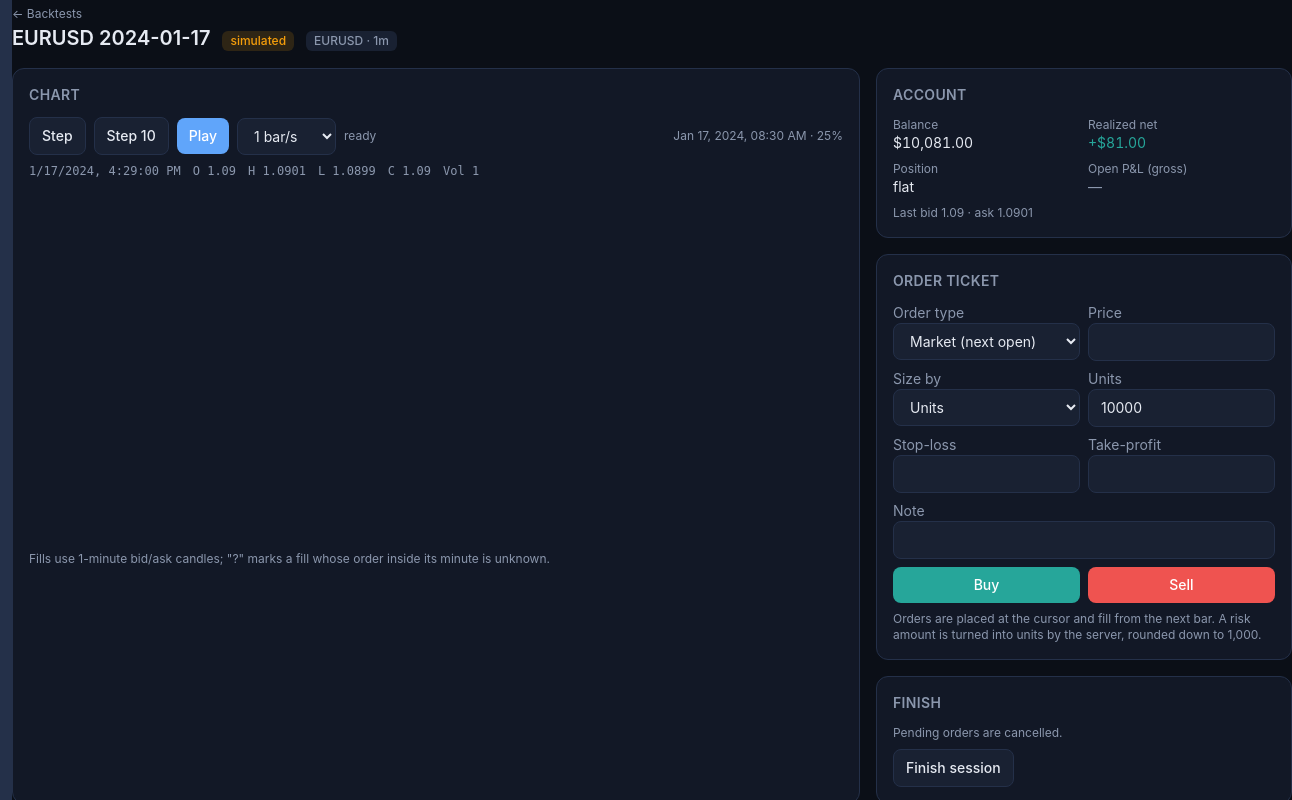
backtest session › sends a bracket order from the ticket and validates it first
Select "Limit" in the dropdown labelled "Order type": (986, 342) [893, 323, 1080, 360]
Select "Risk amount" in the dropdown labelled "Size by": (986, 408) [893, 389, 1080, 426]
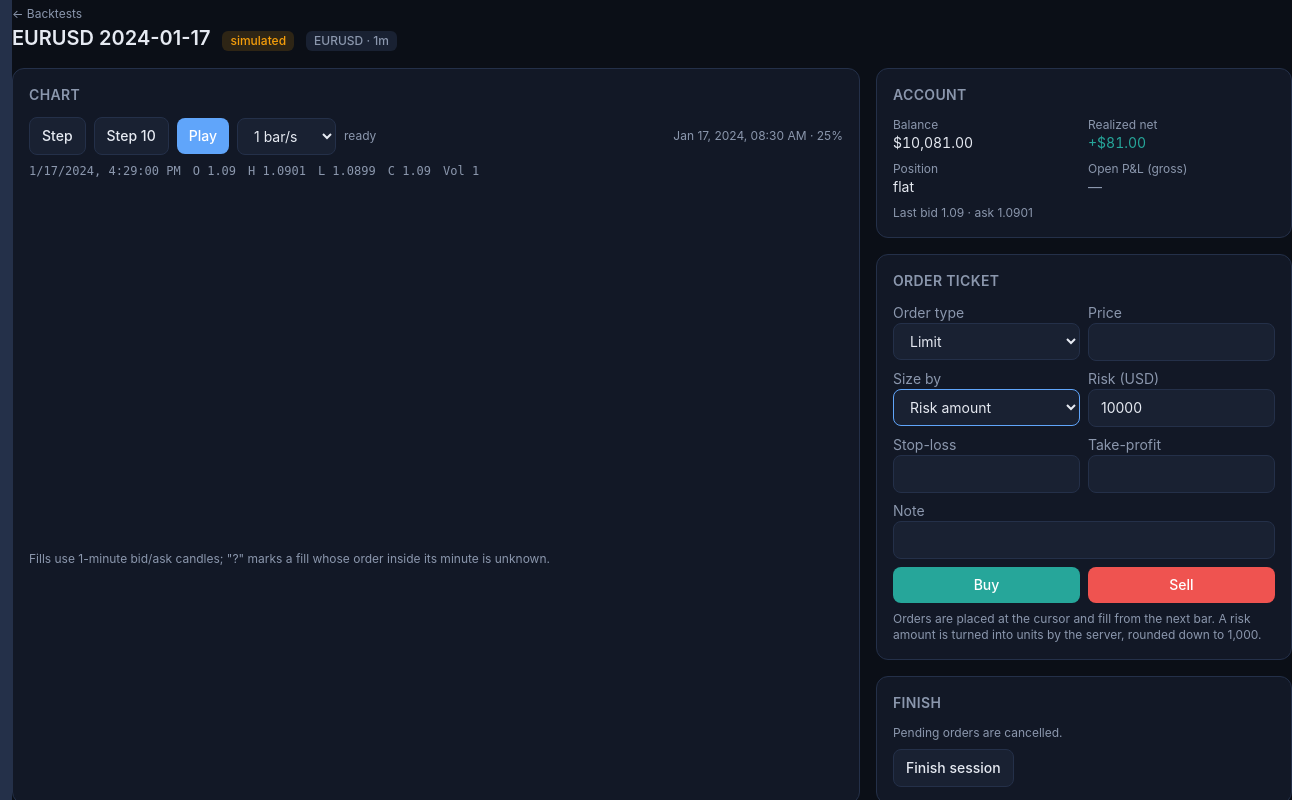
Replace the text in the field labelled "Risk (USD)" with "50": (1182, 408) [1088, 389, 1275, 427]
Click the button "Buy": (986, 585) [893, 567, 1080, 603]
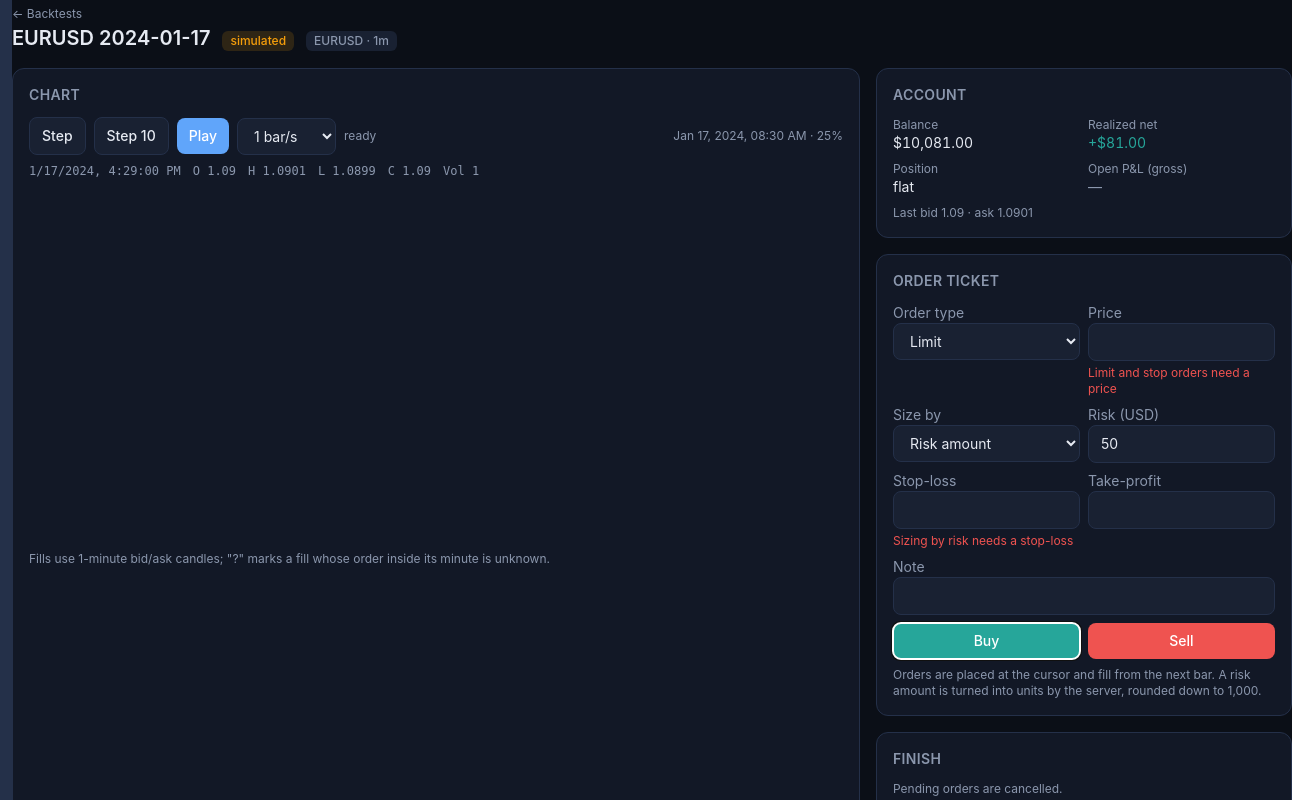
Expected: the form named "Order ticket" shows "Limit and stop orders need a price", [1088, 365, 1250, 396]
Expected: the form named "Order ticket" shows "Sizing by risk needs a stop-loss", [893, 533, 1073, 548]
In the field labelled "Price Limit and stop orders need a price": (1182, 342) [1088, 323, 1275, 361], type "1.0895"
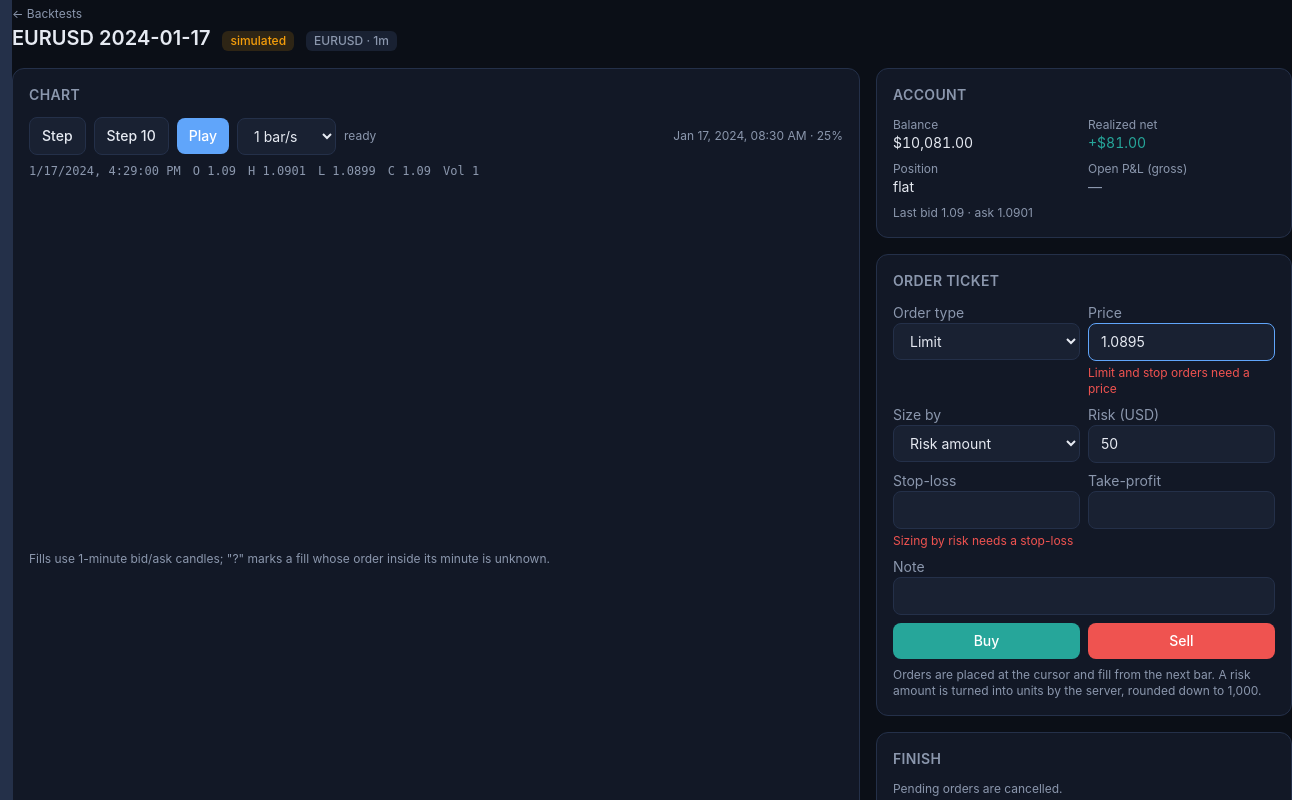
In the field labelled "Stop-loss Sizing by risk needs a stop-loss": (986, 510) [893, 491, 1080, 529], type "1.0885"
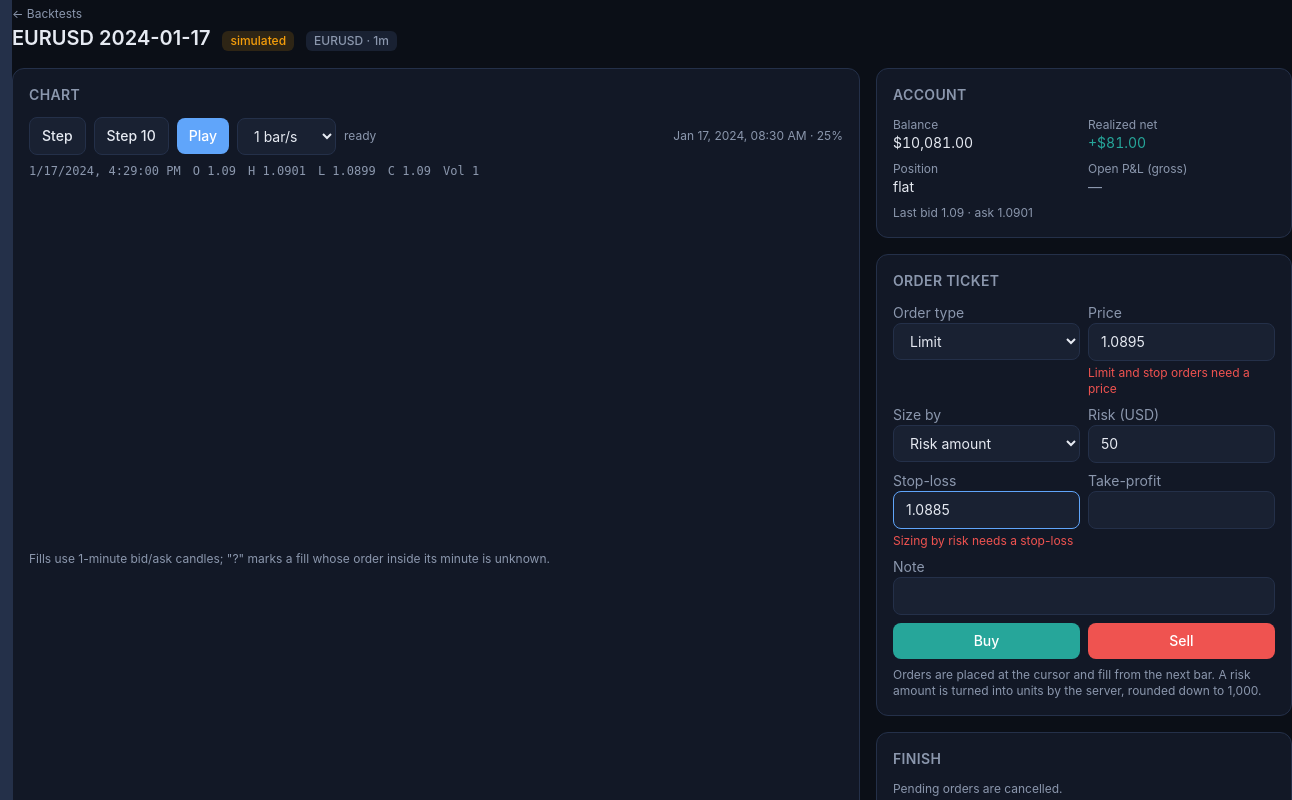
In the field labelled "Take-profit": (1182, 510) [1088, 491, 1275, 529], type "1.0915"
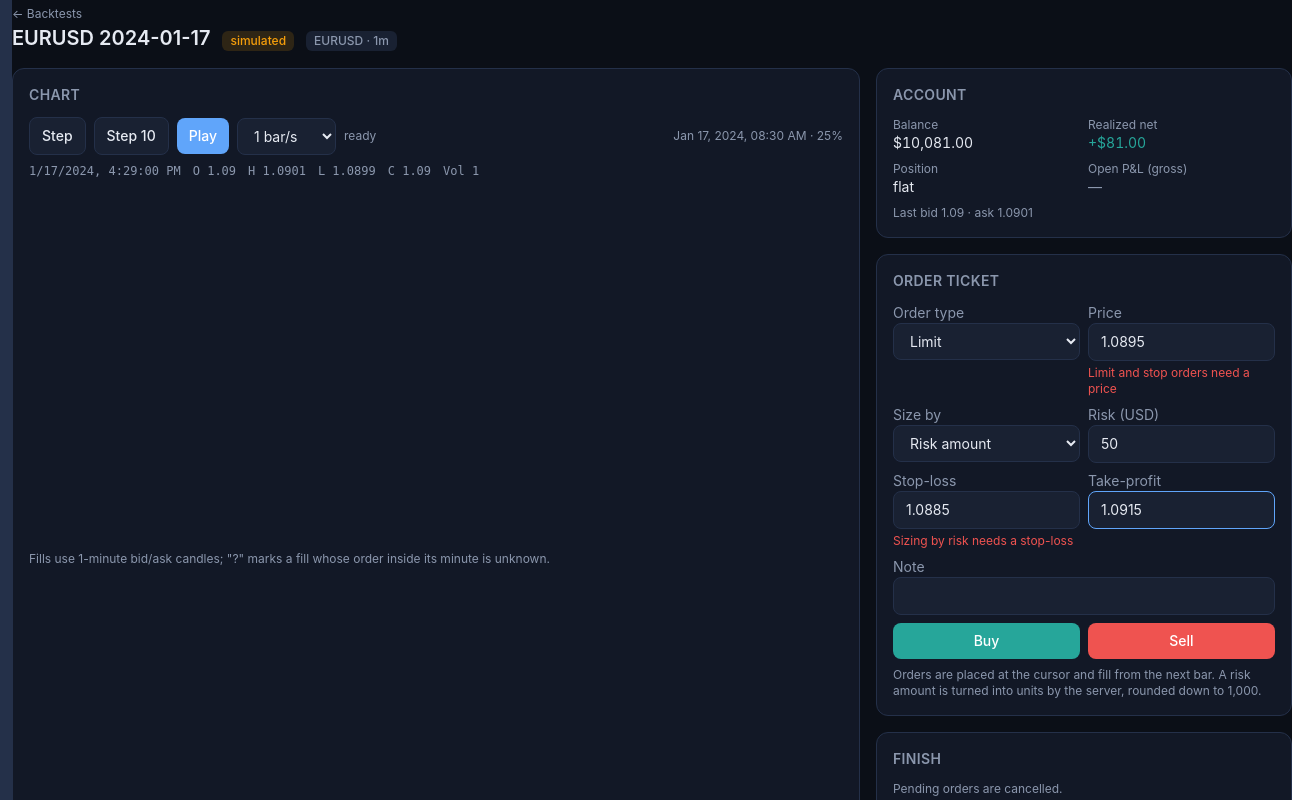
Click the button "Buy": (986, 641) [893, 623, 1080, 659]
(page scrolled)
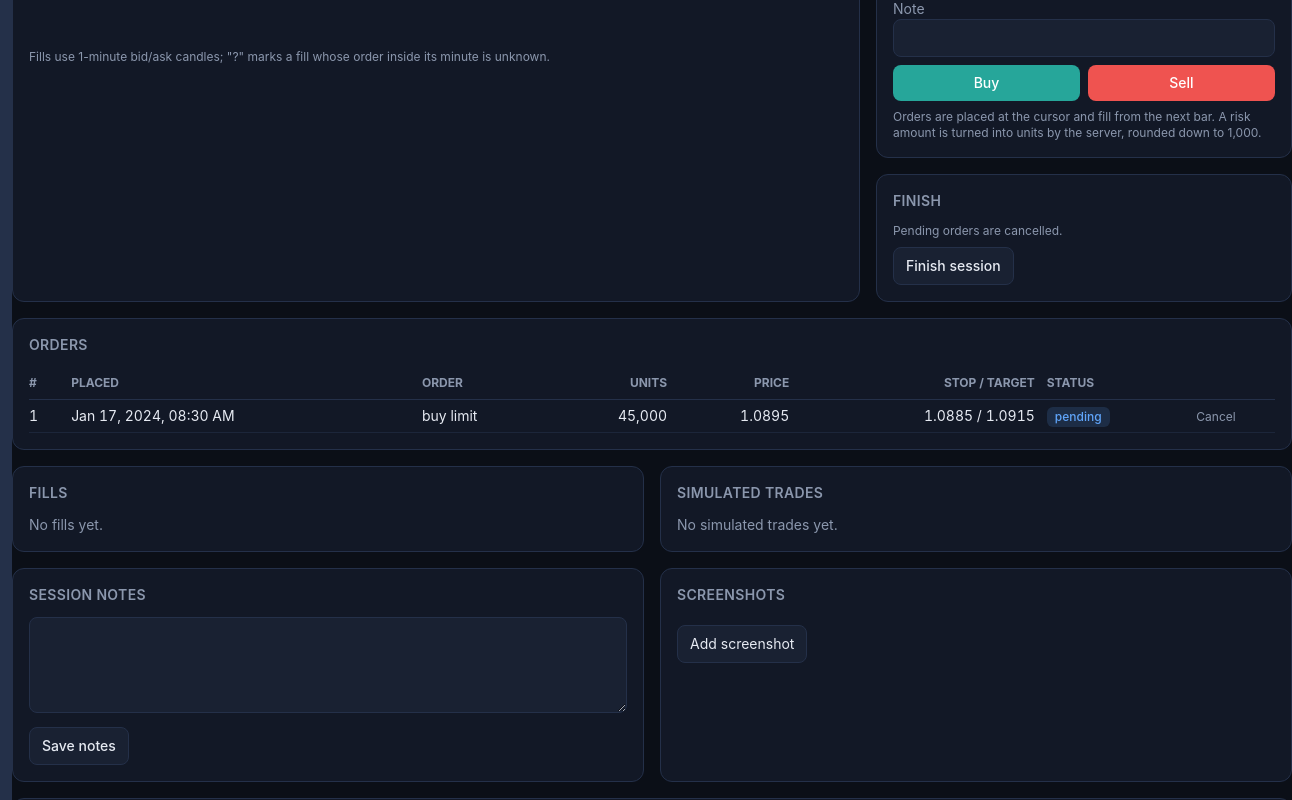
Expected: the table with test id "backtest-orders" shows "buy limit", [422, 407, 477, 424]
